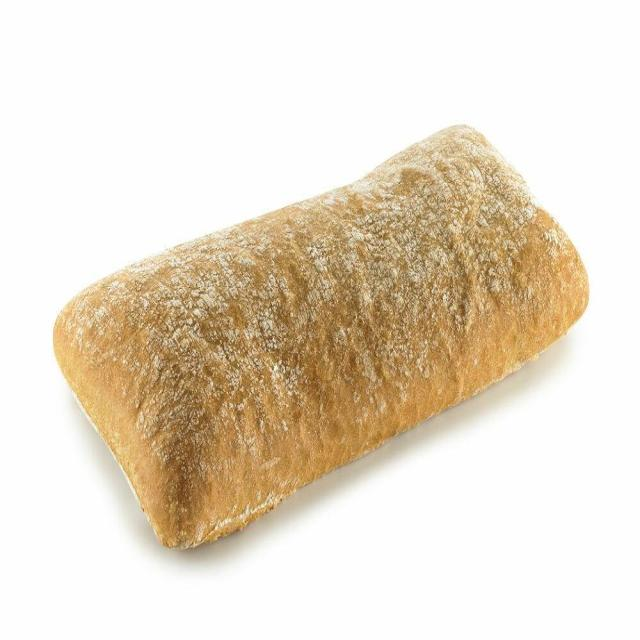Ciabatta: (54, 126, 588, 547)
